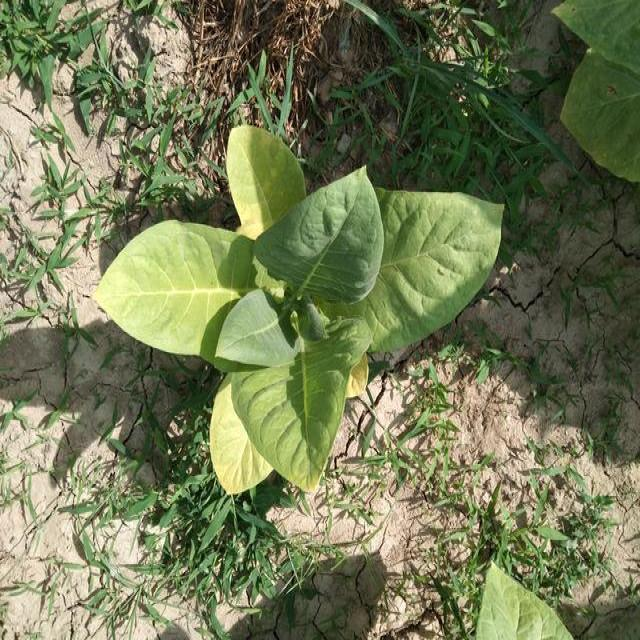crop: (100, 119, 506, 499)
